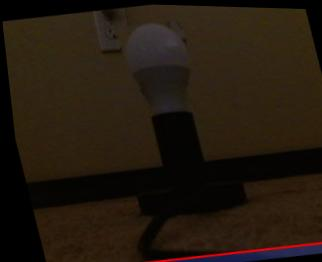Fan: (112, 18, 195, 92)
